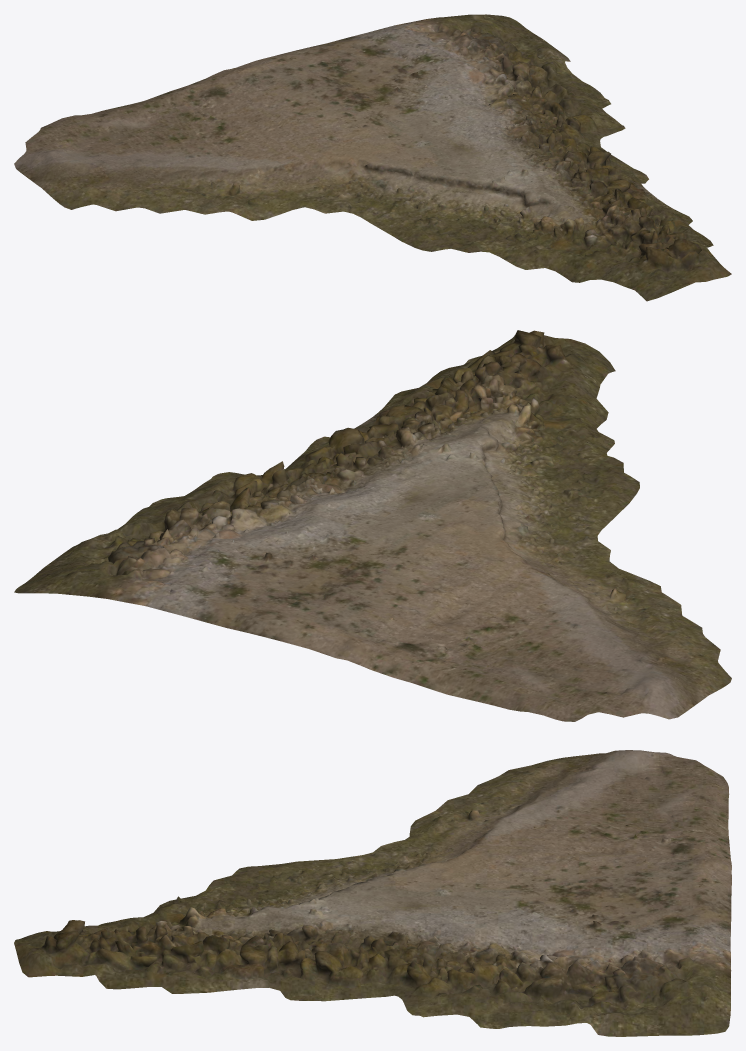
File: coast_rocks_02.glb
3 renders of one model, top to bottom at view 1: azimuth 30°, elevation 25°; view 2: azimuth 150°, elevation 25°; view 3: azimuth 270°, elevation 25°, orthographic. The views are drawn at different scales.
Visible parts, largest first — view 1: coast_rocks_02_lo; view 2: coast_rocks_02_lo; view 3: coast_rocks_02_lo.
Part boxes in pixels (x1=…): coast_rocks_02_lo: x1=14, y1=14, x2=731, y2=301; coast_rocks_02_lo: x1=14, y1=330, x2=731, y2=721; coast_rocks_02_lo: x1=14, y1=750, x2=731, y2=1036.
Size of the model in its own units: 45.97 by 3.18 by 49.47.
1 material, 1 textured.
